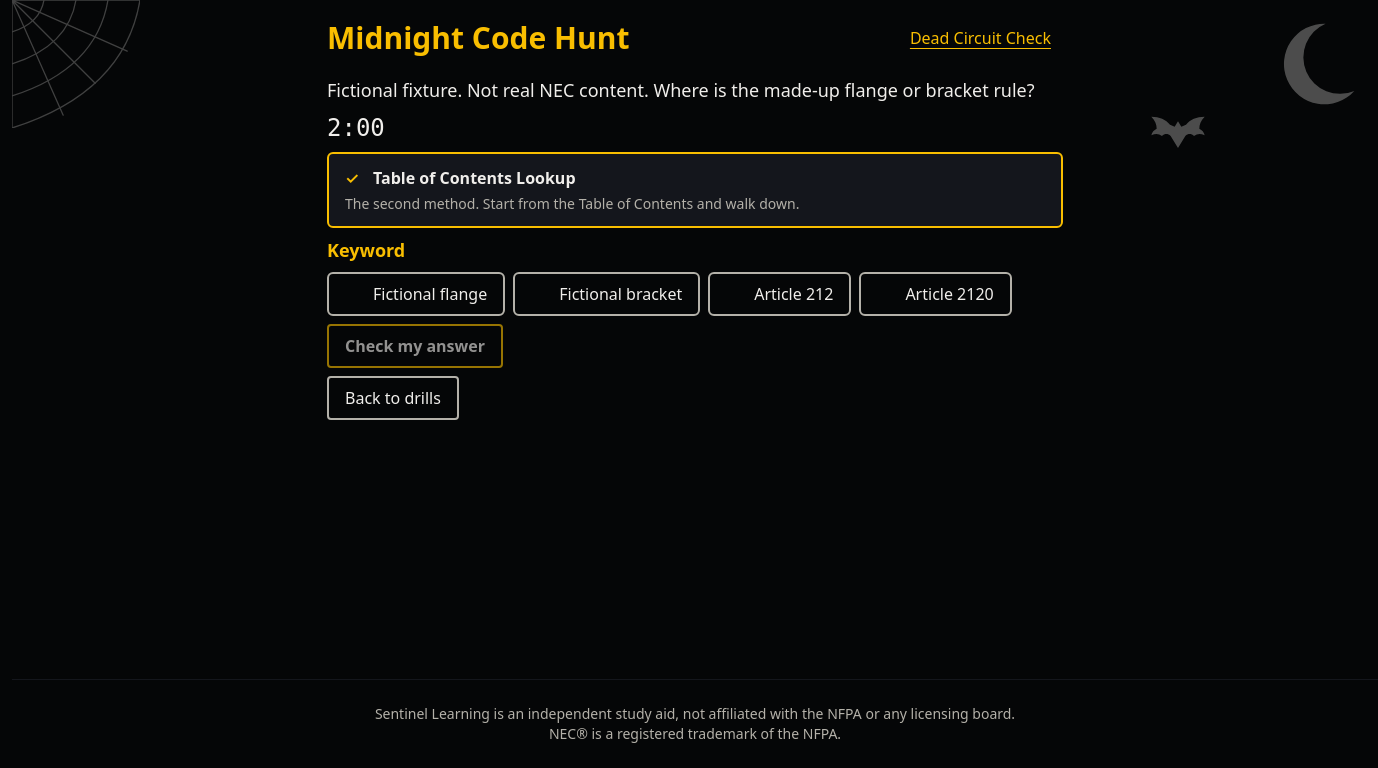
Test: DrillScreen with two valid trails of one method › is correct and saves a best time for the keyword and steps of trail A
Click the button "Fictional flange" at point(416, 294), box x1=327 y1=272 x2=505 y2=316
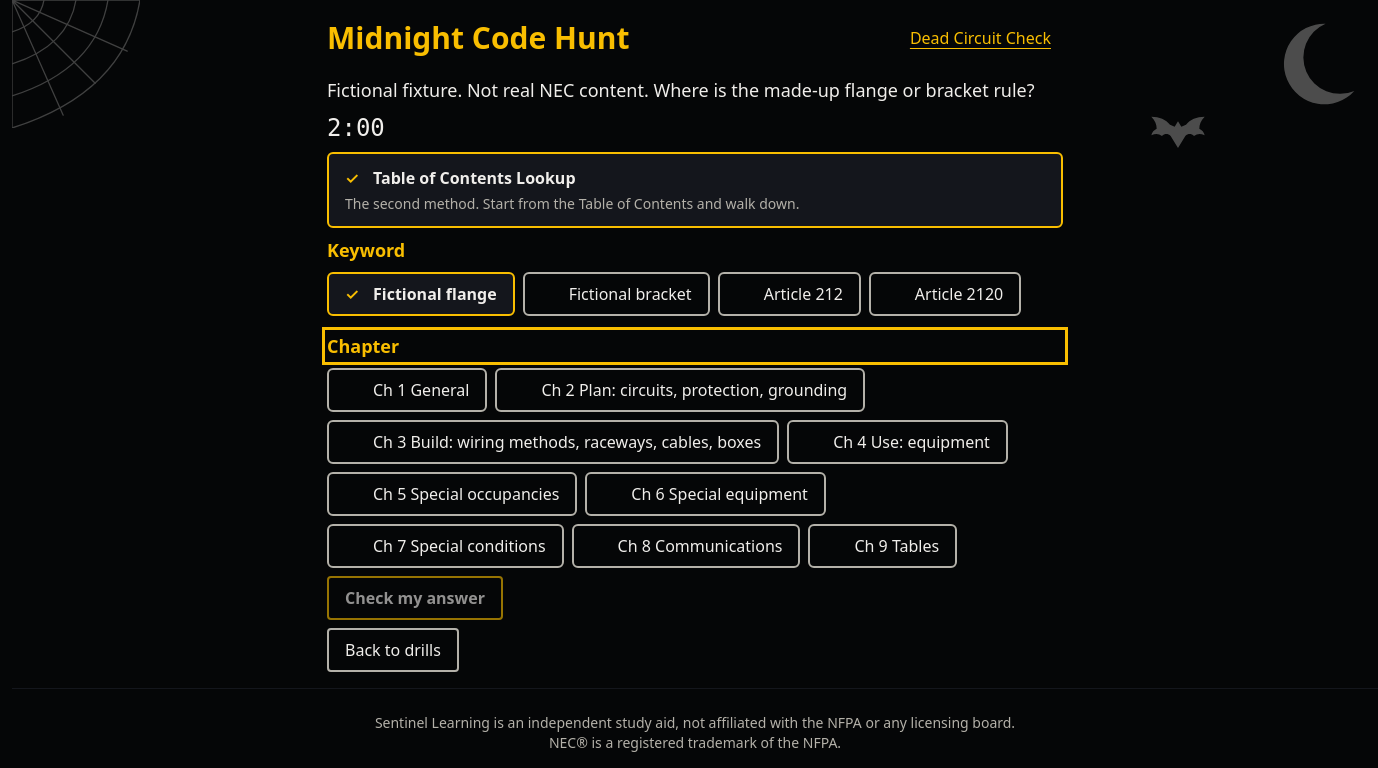
Click the button "Ch 2 Plan: circuits, protection, grounding" at point(680, 390), box x1=496 y1=368 x2=865 y2=412
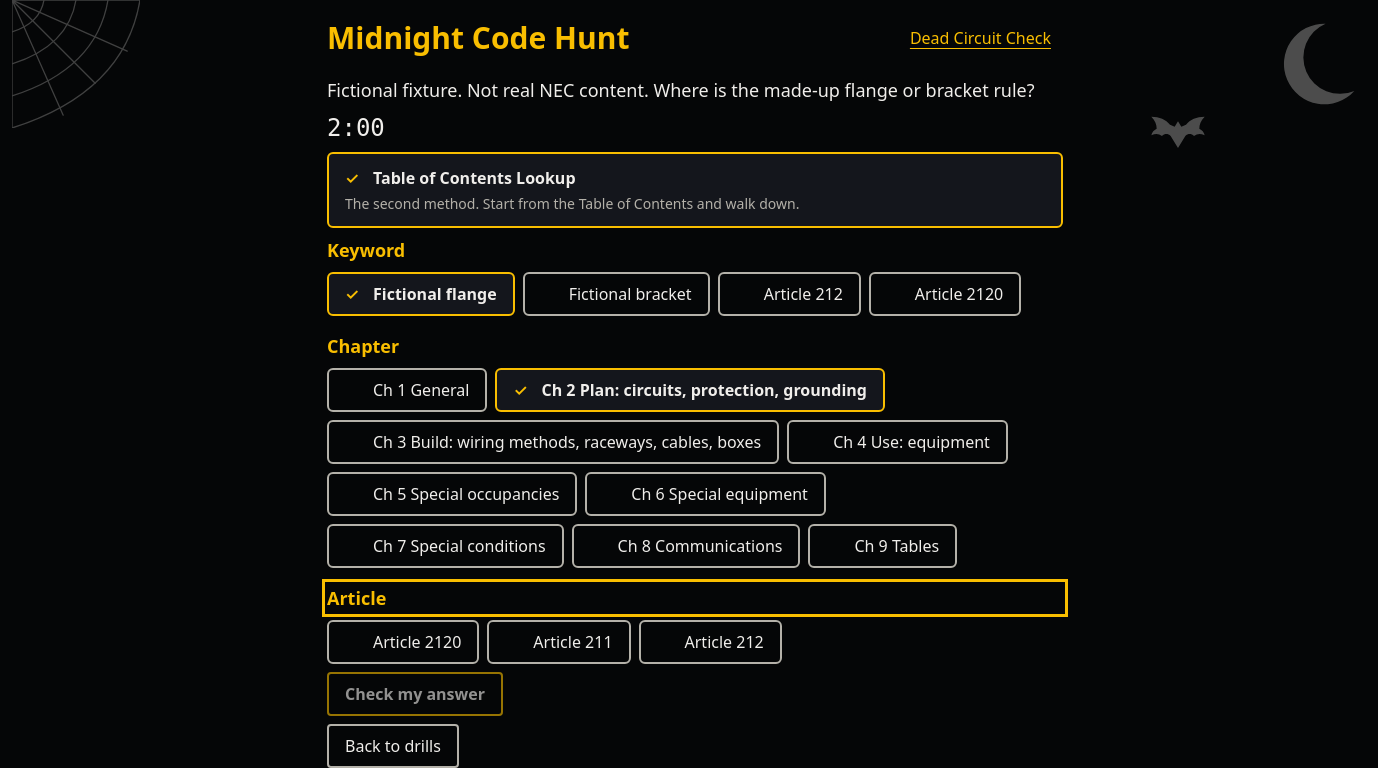
Click the button "Article 211" at point(559, 642), box x1=487 y1=620 x2=630 y2=664
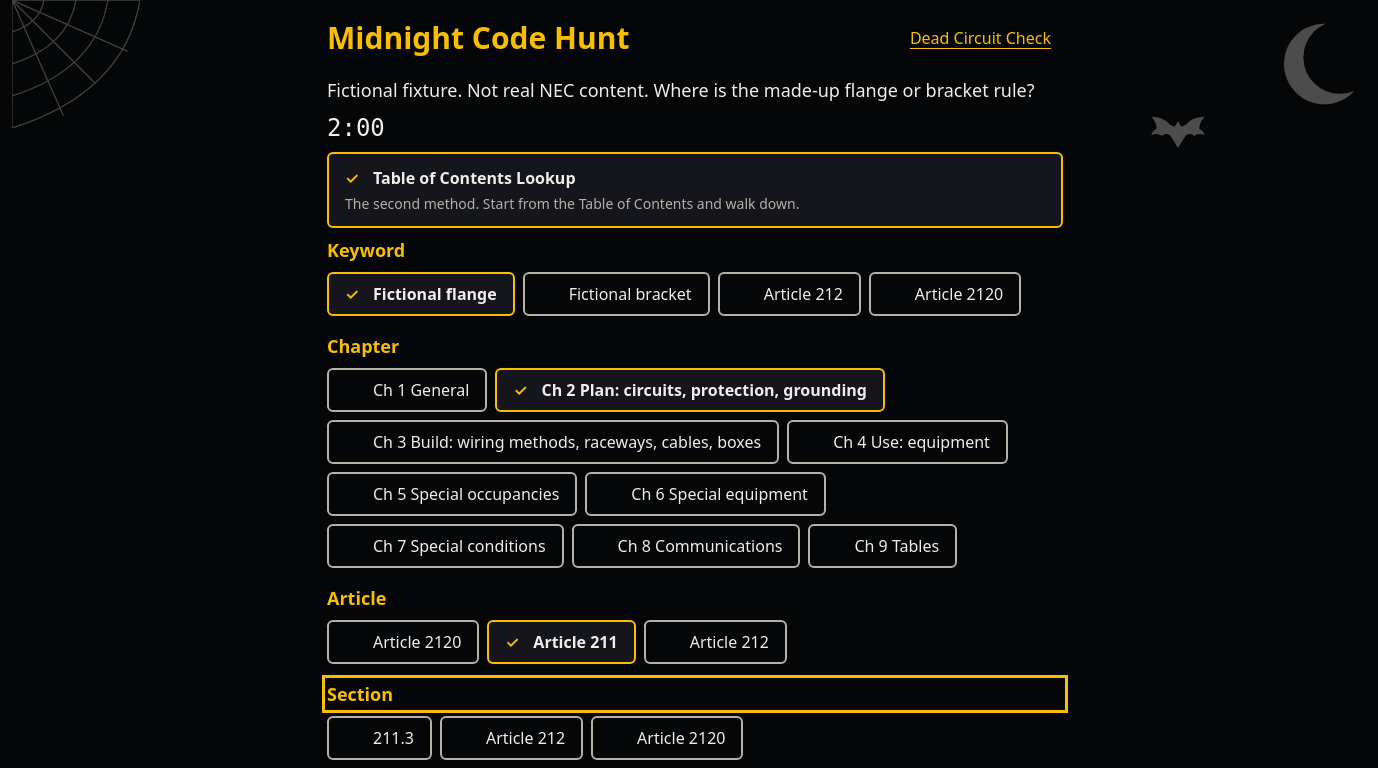
Click the button "211.3" at point(379, 738), box x1=327 y1=716 x2=432 y2=760
(page scrolled)
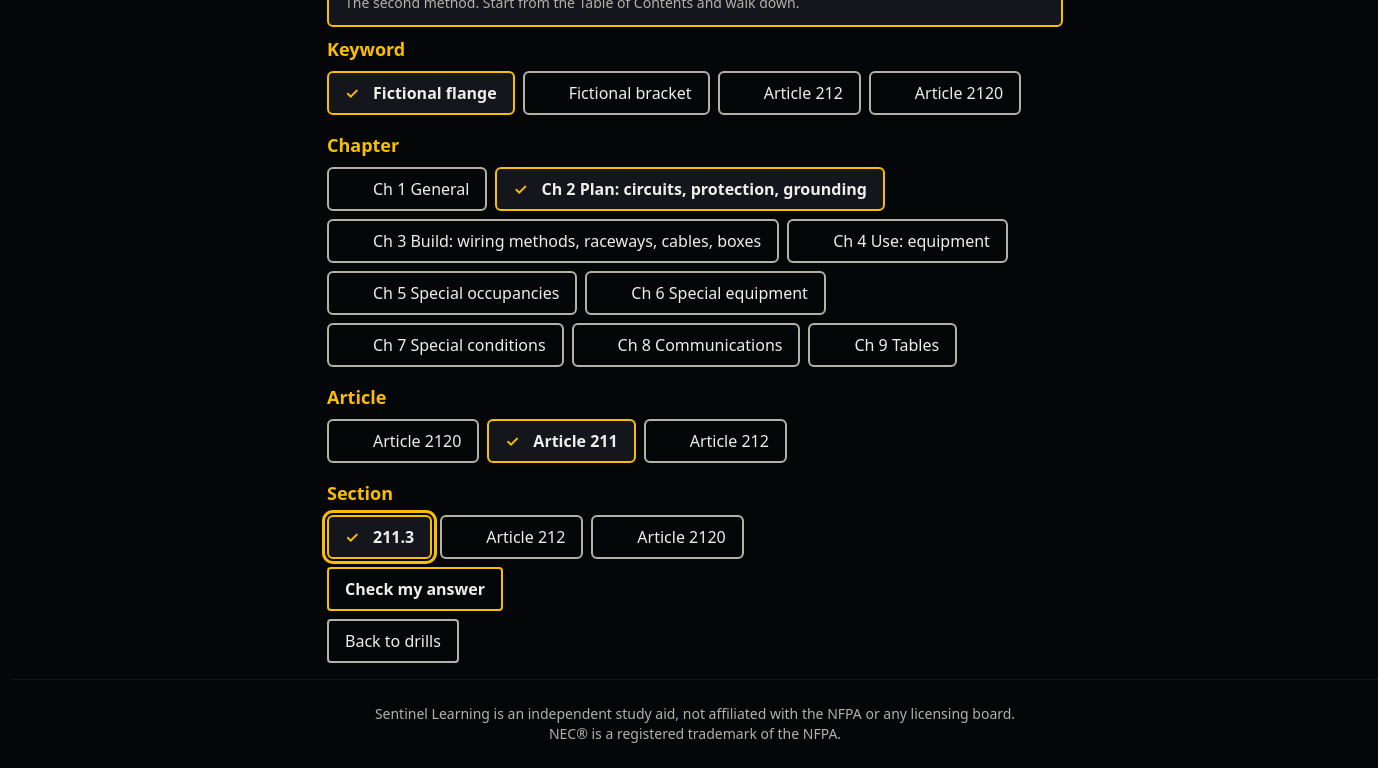
Click the button "Check my answer" at point(415, 589), box x1=327 y1=567 x2=503 y2=611
(page scrolled)
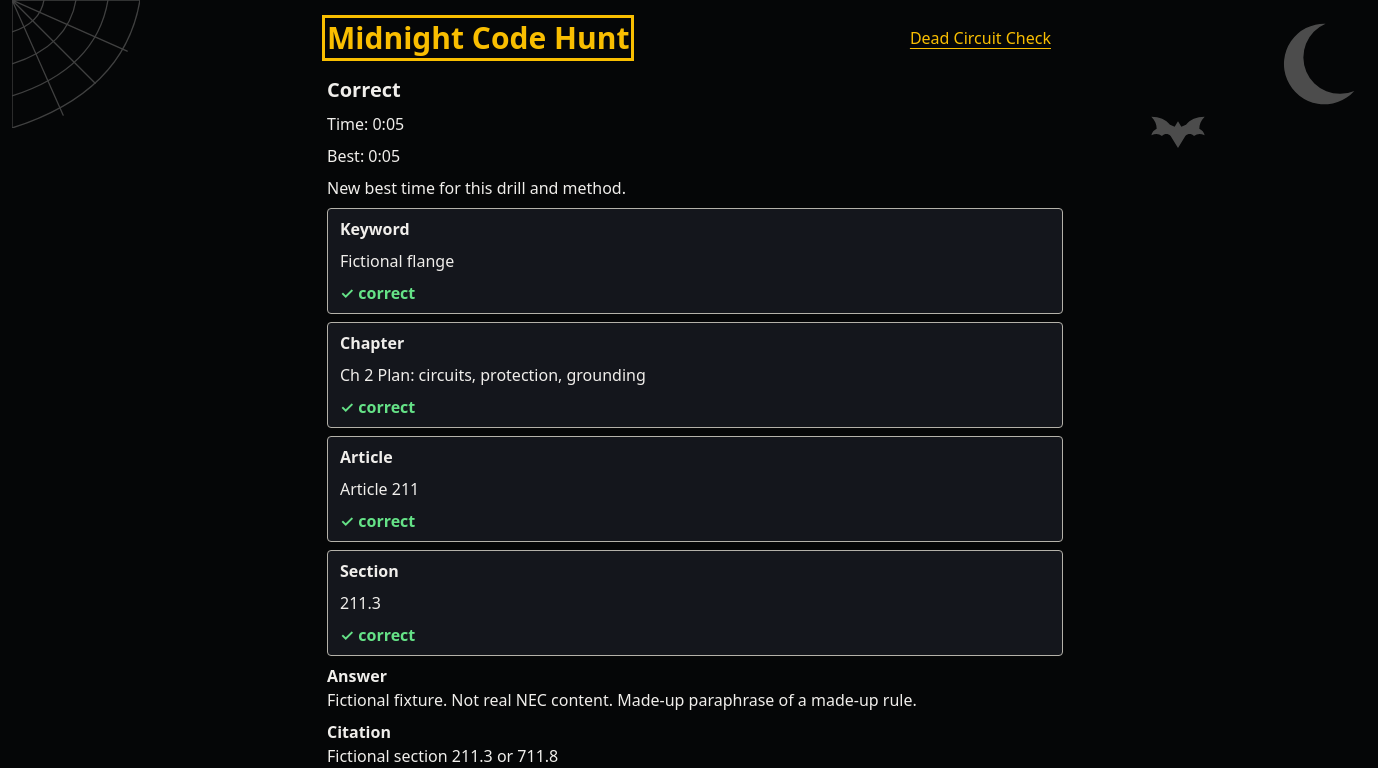
Expected: the text "Correct" is shown, x1=327 y1=76 x2=401 y2=103
Expected: the text "correct" below "Keyword" is shown, x1=358 y1=282 x2=415 y2=304
Expected: the text "correct" below "Chapter" is shown, x1=358 y1=396 x2=415 y2=418
